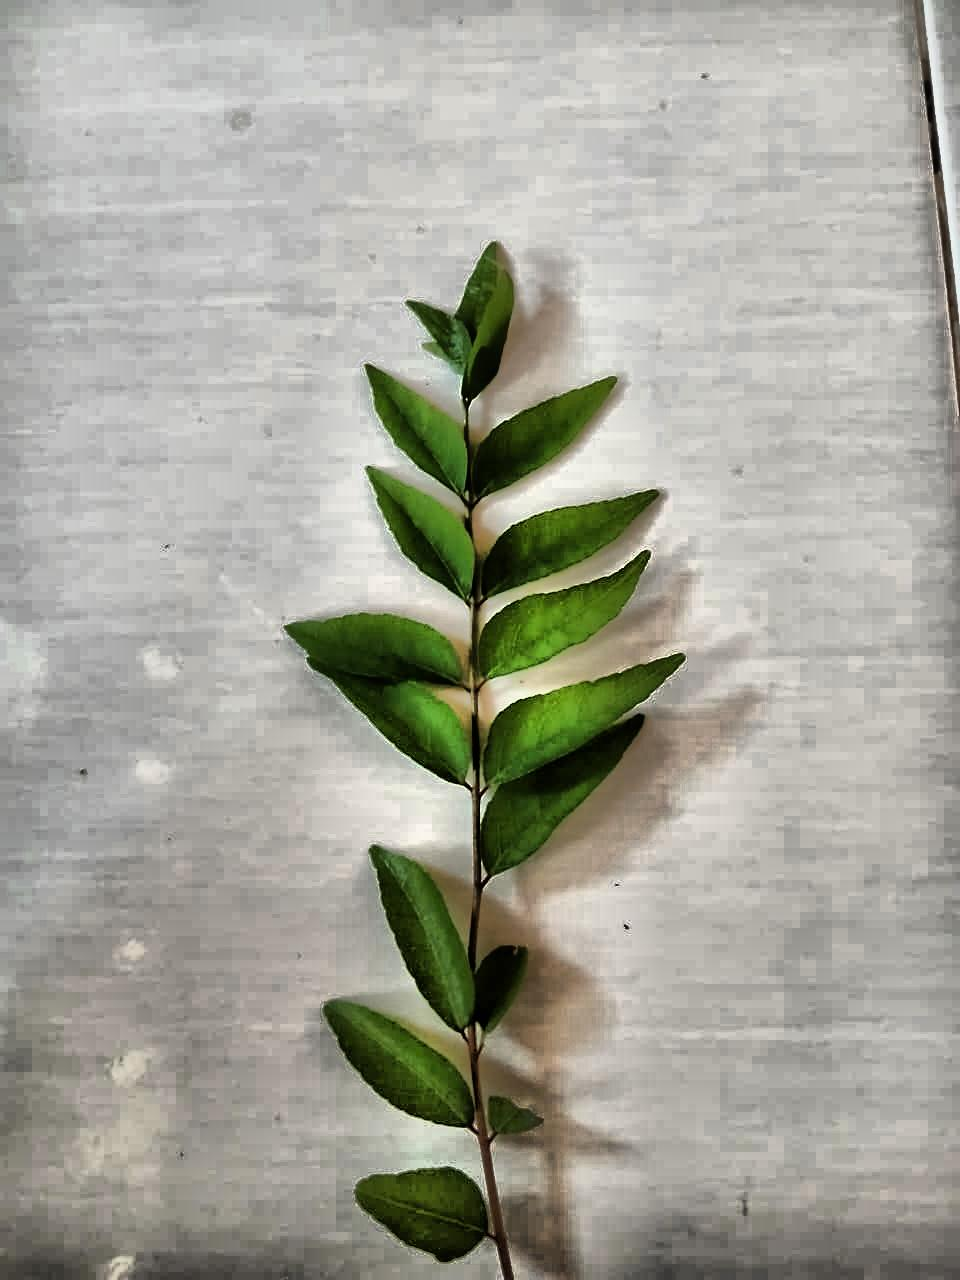daun kari: (285, 245, 683, 1279)
